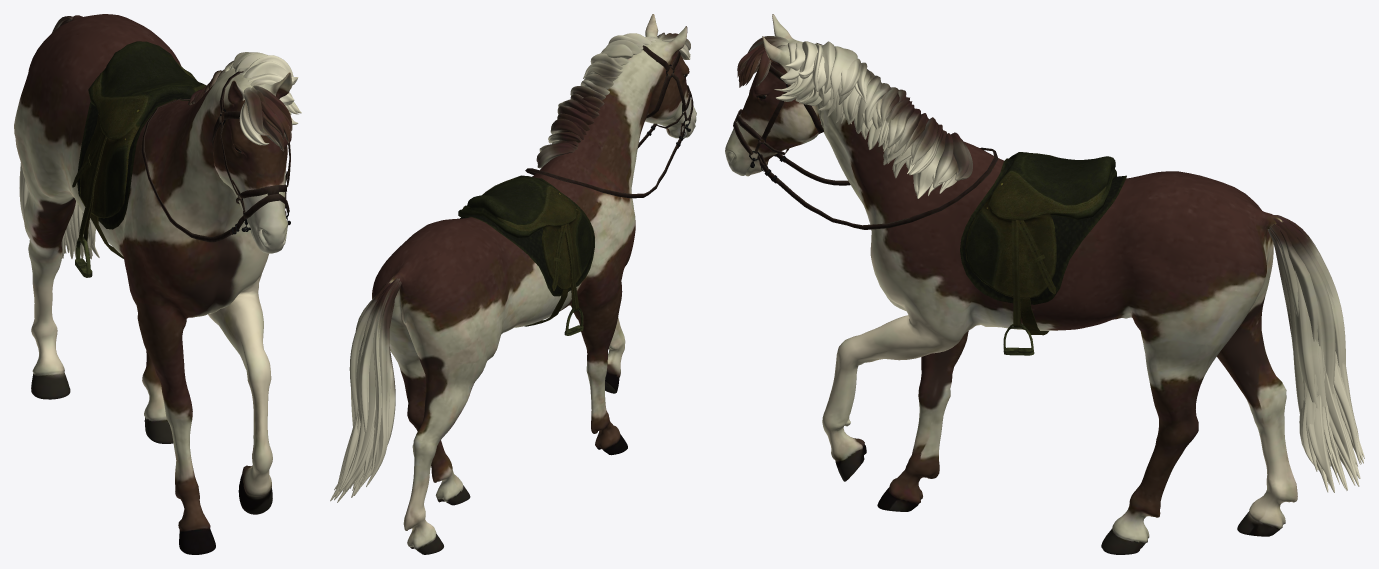
File: COSSACK_SPUTNIK_2#30.glb
3 renders of one model, left to right at view 1: azimuth 30°, elevation 25°; view 2: azimuth 150°, elevation 25°; view 3: azimuth 270°, elevation 25°, orthographic. The views are drawn at different scales.
Visible parts, largest first — view 1: Hair.6-Horse_Sub, Hair.7-Reigns_Sub, Hair.4-Reigns_Sub, Hair.5-Reigns_Sub; view 2: Hair.6-Horse_Sub, Hair.4-Reigns_Sub, Hair.7-Reigns_Sub, Hair.5-Reigns_Sub; view 3: Hair.6-Horse_Sub, Hair.4-Reigns_Sub, Hair.7-Reigns_Sub, Hair.5-Reigns_Sub.
Part boxes in pixels (x1,y1,x2,y2): Hair.6-Horse_Sub: (14,14,292,554); Hair.7-Reigns_Sub: (72,41,206,277); Hair.4-Reigns_Sub: (19,15,301,259); Hair.5-Reigns_Sub: (141,71,290,242); Hair.6-Horse_Sub: (372,14,696,554); Hair.4-Reigns_Sub: (330,32,690,502); Hair.7-Reigns_Sub: (458,175,594,335); Hair.5-Reigns_Sub: (525,45,693,198); Hair.6-Horse_Sub: (725,14,1297,554); Hair.4-Reigns_Sub: (737,36,1364,492); Hair.7-Reigns_Sub: (960,152,1126,355); Hair.5-Reigns_Sub: (733,43,998,229).
Size of the model in its own units: 4.31 by 11.7 by 14.11.
4 materials, 4 textured.
